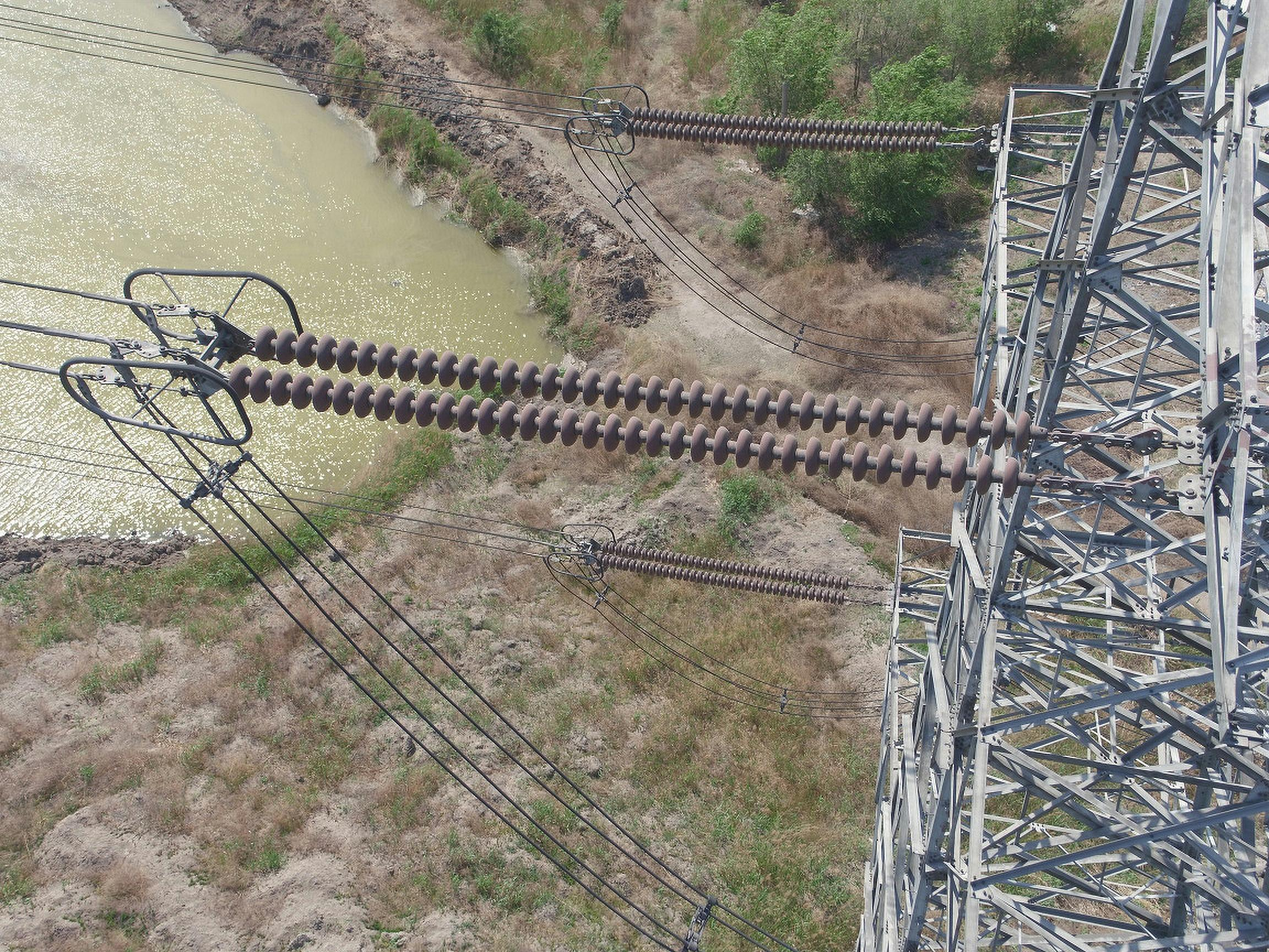insulator: (224, 321, 1037, 502), (595, 538, 850, 607), (623, 105, 946, 155)
